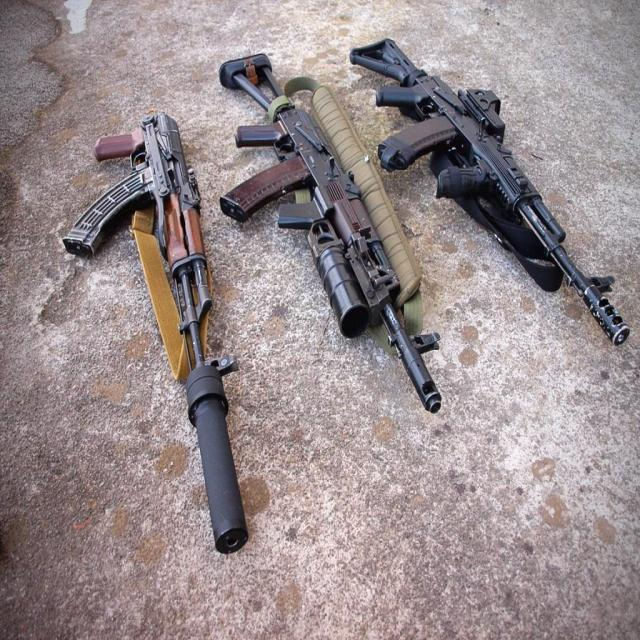firearm: (348, 34, 634, 348), (58, 109, 250, 560), (216, 53, 446, 413)
